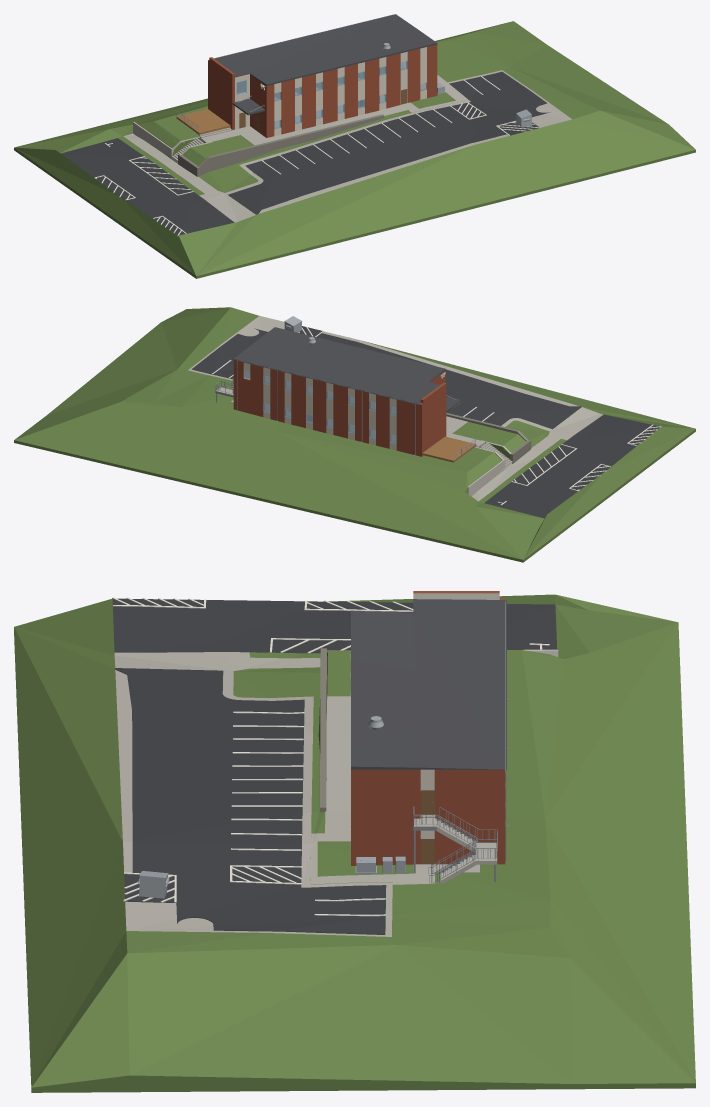
3 views of the same model, one above another, from view 1: azimuth 30°, elevation 25°; view 2: azimuth 150°, elevation 25°; view 3: azimuth 270°, elevation 25° (orthographic). The views are drawn at different scales.
Parts seen in each view (by area): view 1: site/grass, site/asphalt, envelope/brick#wall, envelope/roof#roof, site/concrete, envelope/stucco#wall, site/stone, site/paint, envelope/glass, interior/wood, envelope/generic#wall, structure/concrete; view 2: site/grass, site/asphalt, envelope/brick#wall, envelope/roof#roof, site/concrete, envelope/stucco#wall, envelope/glass, site/paint, interior/wood, site/stone, envelope/metal, structure/concrete (+1 smaller); view 3: site/grass, site/asphalt, envelope/roof#roof, site/concrete, envelope/brick#wall, site/paint, structure/metal, structure/concrete, site/stone, mep/equipment, interior/door, site/equipment.
Part boxes in pixels (box(x1,y1,x2,y2)): site/grass: box(14, 21, 695, 278); site/asphalt: box(61, 71, 550, 235); envelope/brick#wall: box(208, 44, 437, 137); envelope/roof#roof: box(214, 14, 437, 85); site/concrete: box(123, 70, 571, 222); envelope/stucco#wall: box(235, 47, 426, 135); site/stone: box(178, 114, 384, 176); site/paint: box(94, 76, 540, 236); envelope/glass: box(236, 61, 407, 129); interior/wood: box(176, 109, 230, 134); envelope/generic#wall: box(133, 81, 384, 157); structure/concrete: box(171, 78, 384, 161); site/grass: box(14, 307, 695, 562); site/asphalt: box(191, 326, 659, 518); envelope/brick#wall: box(233, 360, 446, 456); envelope/roof#roof: box(234, 327, 445, 403); site/concrete: box(188, 316, 603, 501); envelope/stucco#wall: box(243, 362, 396, 450); envelope/glass: box(243, 370, 396, 443); site/paint: box(212, 326, 661, 505); interior/wood: box(422, 436, 476, 462); site/stone: box(446, 412, 531, 463); envelope/metal: box(233, 359, 419, 455); structure/concrete: box(216, 376, 512, 466); site/grass: box(14, 594, 695, 1092); site/asphalt: box(112, 598, 557, 934); envelope/roof#roof: box(351, 599, 505, 769); site/concrete: box(114, 652, 479, 936); envelope/brick#wall: box(351, 591, 505, 865); site/paint: box(112, 597, 549, 916); structure/metal: box(413, 806, 497, 883); structure/concrete: box(414, 815, 497, 883); site/stone: box(320, 648, 350, 812); mep/equipment: box(355, 716, 405, 874); interior/door: box(350, 790, 435, 864); site/equipment: box(138, 871, 169, 898).
Bounding box in the file's own units: 78.78 × 13.89 × 48.79.
